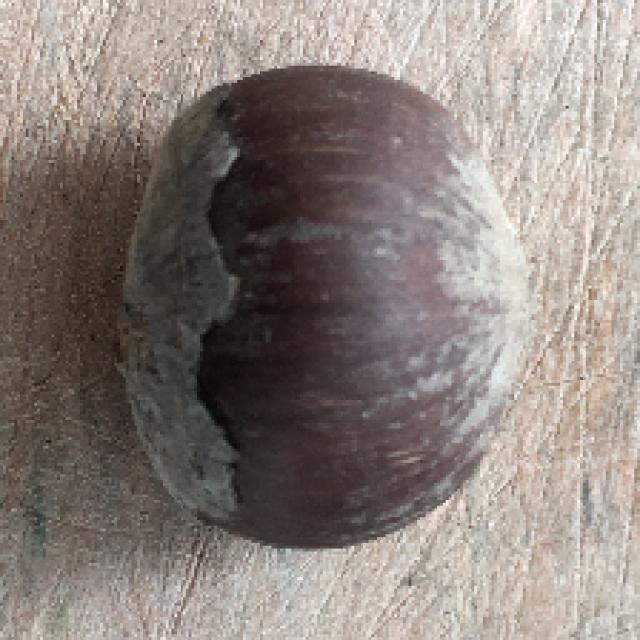damagedHazelnut: (108, 55, 562, 567)
